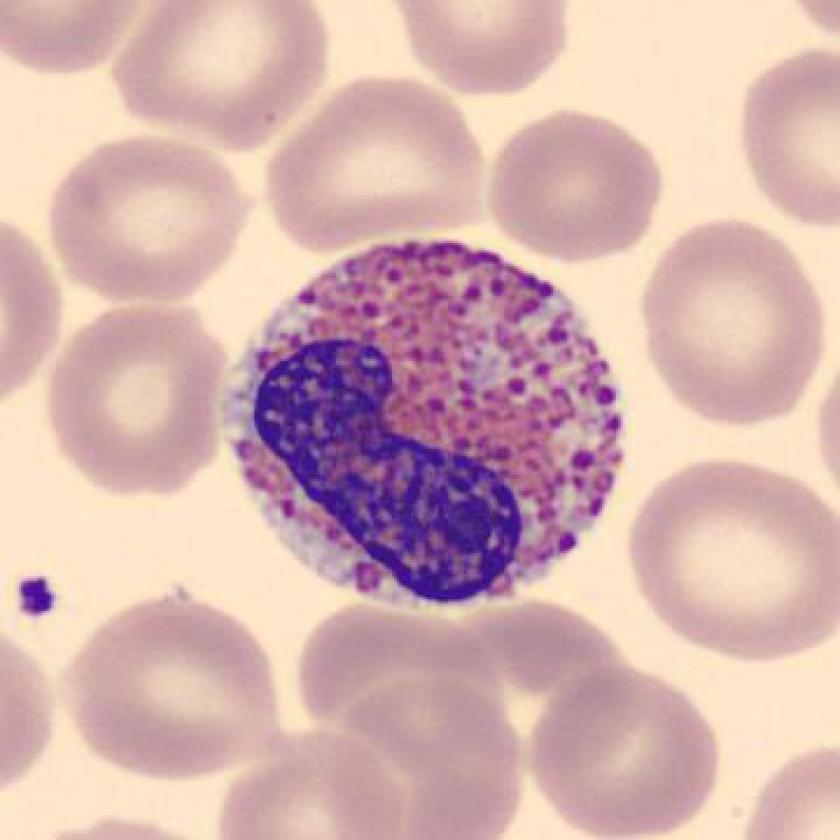eosinophil: (209, 228, 640, 623)
